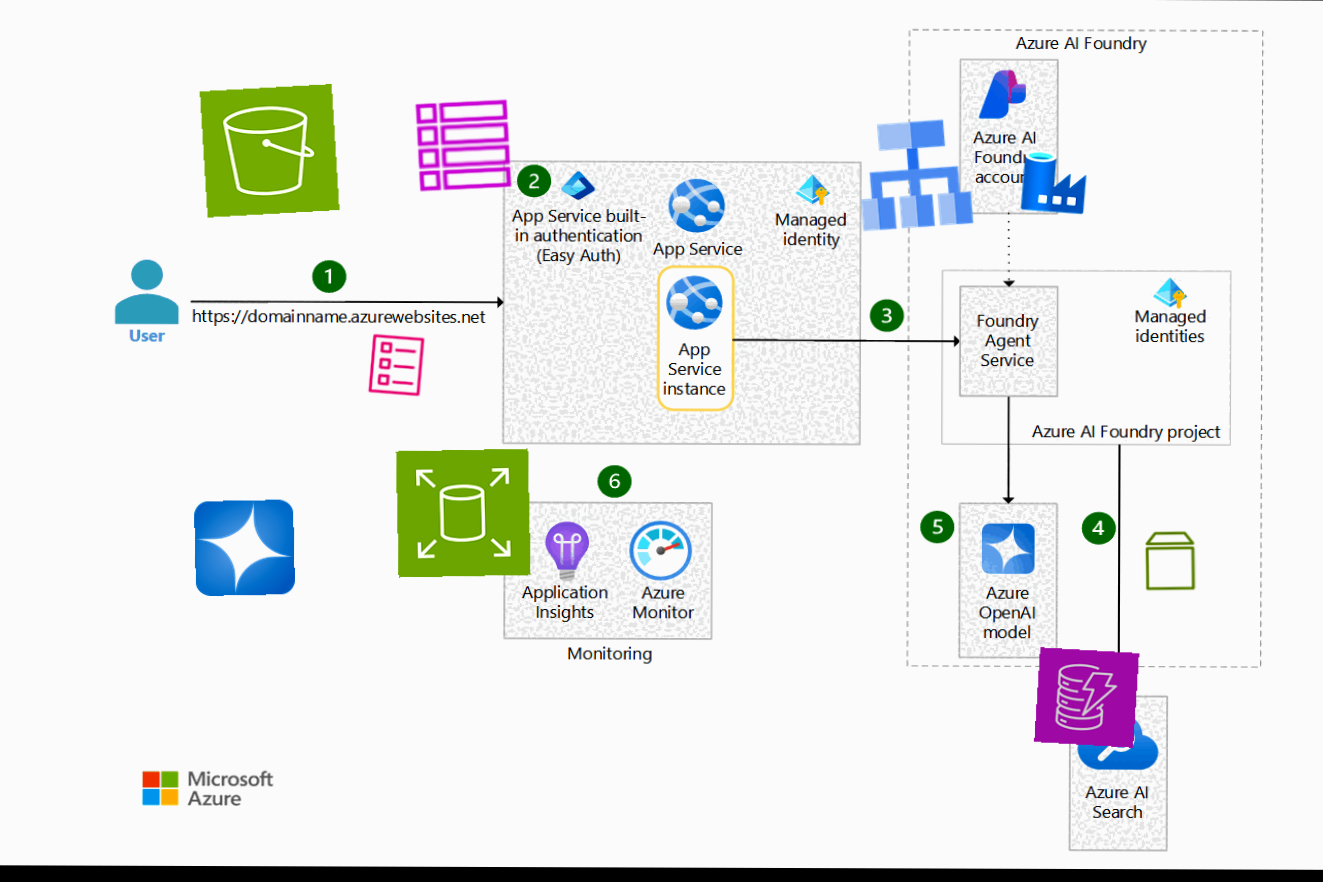aws_amazon_dynamodb: (1033, 647, 1139, 747)
aws_amazon_elastic_block_store: (395, 447, 531, 578)
aws_amazon_simple_storage_service: (199, 83, 339, 218)
aws_cloudformation_template: (359, 330, 431, 399)
aws_dynamodb_table: (410, 95, 516, 195)
aws_elastic_block_store_volume: (1136, 528, 1204, 593)
azure_data_factories: (1018, 147, 1090, 216)
azure_openai: (192, 498, 296, 597)
gcp_cloud_load_balancing: (842, 106, 985, 242)
